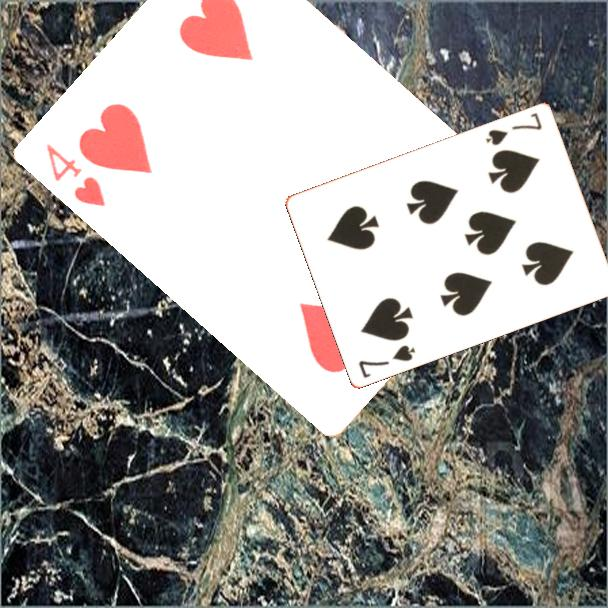h04: (43, 139, 109, 210)
s07: (355, 341, 418, 381), (482, 109, 545, 148)
